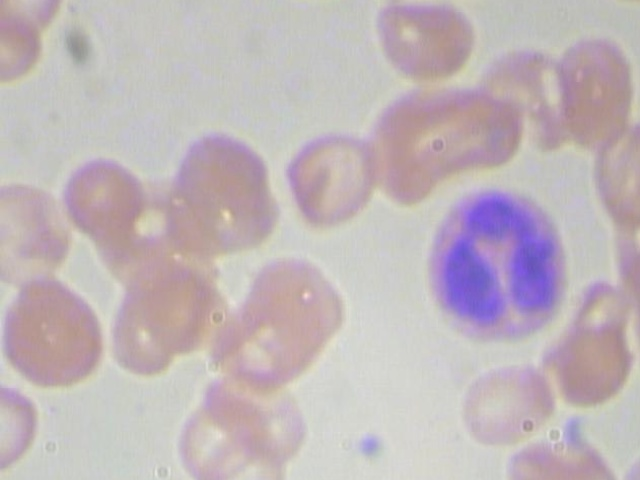RBC: (156, 123, 279, 253), (0, 270, 109, 385), (238, 248, 346, 364), (547, 30, 639, 161), (276, 123, 384, 228), (452, 358, 564, 443), (371, 0, 478, 88), (168, 388, 267, 480), (544, 312, 638, 408), (55, 153, 147, 231), (0, 0, 68, 37)
WBC: (408, 181, 587, 353), (356, 428, 389, 460)
